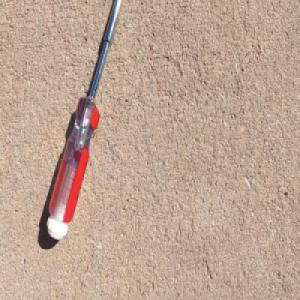Screwdriver: (45, 0, 123, 240)
